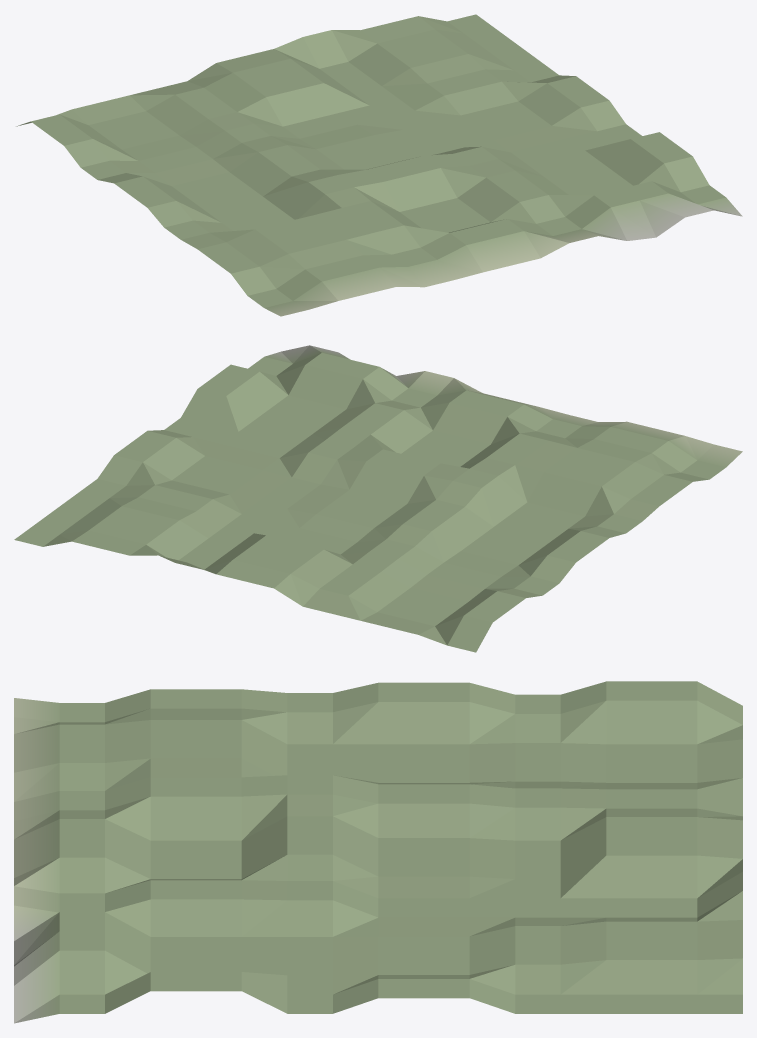
3 views of the same model, one above another, from view 1: azimuth 30°, elevation 25°; view 2: azimuth 150°, elevation 25°; view 3: azimuth 270°, elevation 25° (orthographic). The views are drawn at different scales.
Size of the model in its own units: 32 by 1.77 by 32.
